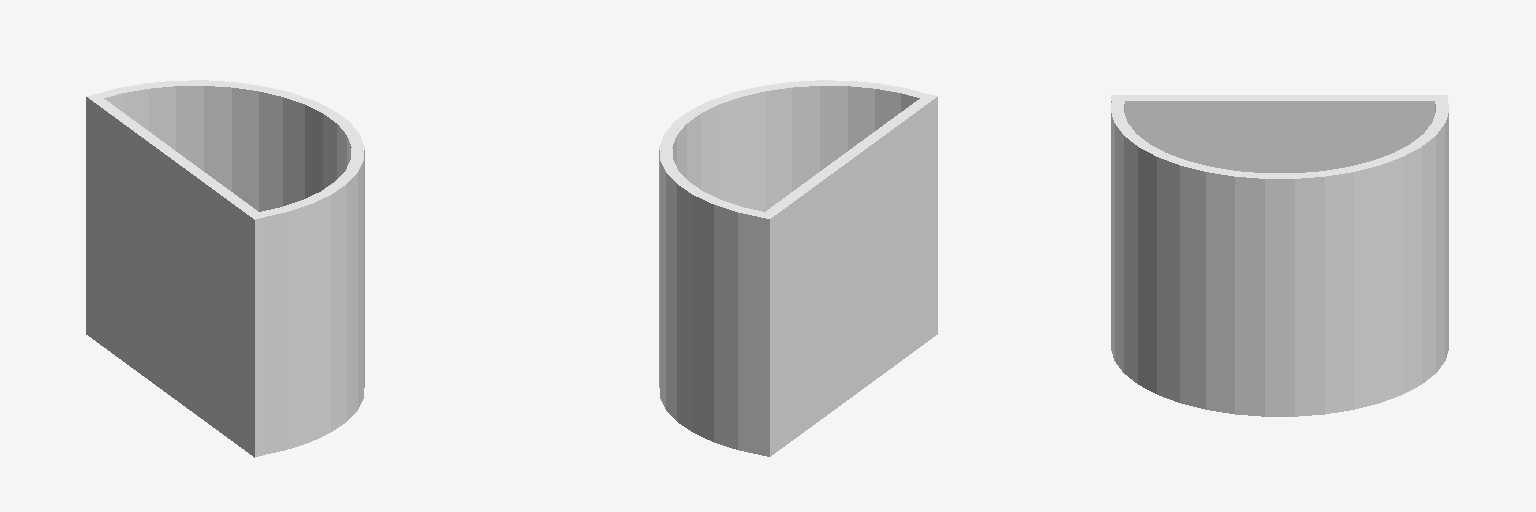
The picture shows the model from 3 angles: view 1: azimuth 30°, elevation 25°; view 2: azimuth 150°, elevation 25°; view 3: azimuth 270°, elevation 25°; orthographic projection.
Parts seen in each view (by area): view 1: wall_1_4, wall_2_9, wall_2_10, wall_2_11, wall_2_12, wall_1_3, wall_1_6, wall_1_5; view 2: wall_1_4, wall_2_9, wall_2_10, wall_2_11, wall_2_12, wall_1_6, wall_1_5; view 3: wall_2_9, wall_1_3, wall_2_11, wall_2_12, wall_1_6, wall_1_5.
Boxes of the visible parts, box(x1,y1,x2,y2) form: wall_1_4: box(86, 97, 259, 457); wall_2_9: box(266, 150, 364, 453); wall_2_10: box(104, 86, 351, 211); wall_2_11: box(87, 80, 364, 217); wall_2_12: box(95, 83, 357, 215); wall_1_3: box(260, 217, 265, 455); wall_1_6: box(88, 97, 259, 219); wall_1_5: box(97, 98, 264, 217); wall_1_4: box(770, 97, 937, 456); wall_2_9: box(659, 150, 769, 456); wall_2_10: box(672, 86, 919, 211); wall_2_11: box(659, 80, 932, 218); wall_2_12: box(666, 83, 922, 214); wall_1_6: box(768, 95, 937, 218); wall_1_5: box(765, 94, 930, 215); wall_2_9: box(1111, 113, 1448, 416); wall_1_3: box(1111, 101, 1434, 172); wall_2_11: box(1111, 95, 1448, 178); wall_2_12: box(1117, 98, 1442, 175); wall_1_6: box(1111, 95, 1446, 97); wall_1_5: box(1111, 98, 1439, 100).
Bounding box in the file's own units: 115 × 152 × 197.